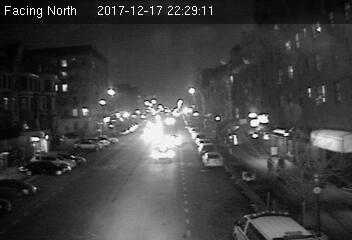car: (150, 144, 177, 163), (202, 151, 224, 167)
police: (232, 210, 316, 239)
